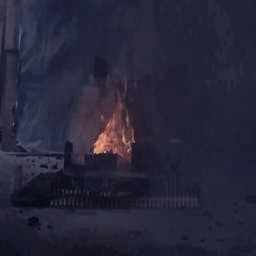fire: (92, 102, 138, 168)
